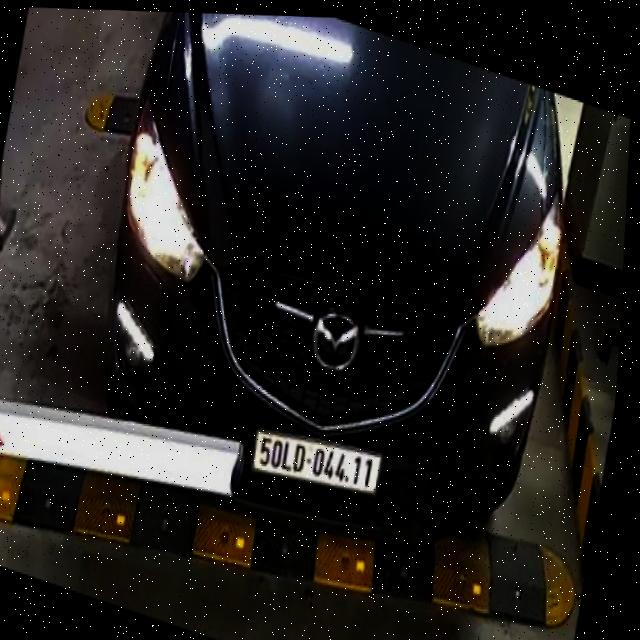car: (84, 6, 586, 554)
plate: (244, 424, 389, 503)
